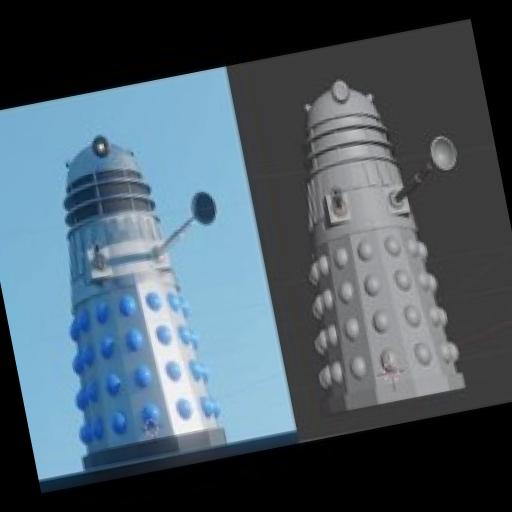dalek: (6, 112, 262, 475), (256, 52, 508, 420)
